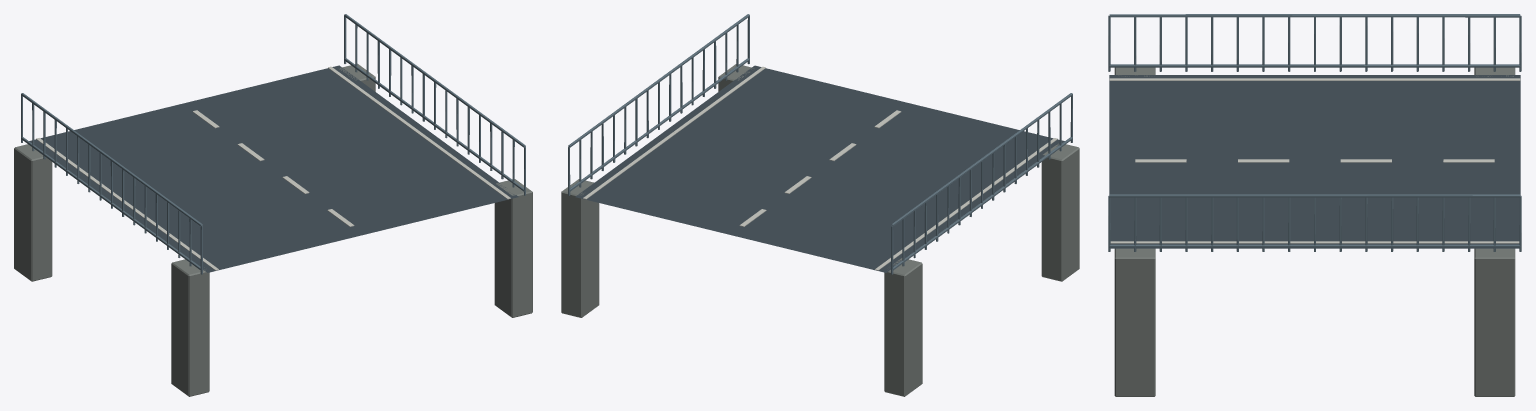
File: landscape-road-bridge.lod1.glb
3 views of the same model, side by side, from view 1: azimuth 30°, elevation 25°; view 2: azimuth 150°, elevation 25°; view 3: azimuth 270°, elevation 25° (orthographic). The views are drawn at different scales.
Visible parts, largest first — view 1: landscape-road-bridge__body; view 2: landscape-road-bridge__body; view 3: landscape-road-bridge__body.
Boxes of the visible parts, x1,y1,x2,y2 form: landscape-road-bridge__body: (14,14,532,396); landscape-road-bridge__body: (561,14,1079,396); landscape-road-bridge__body: (1108,14,1521,396).
Size of the model in its own units: 8.85 by 4.23 by 8.05.
